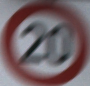20 km speed: (1, 1, 90, 85)
